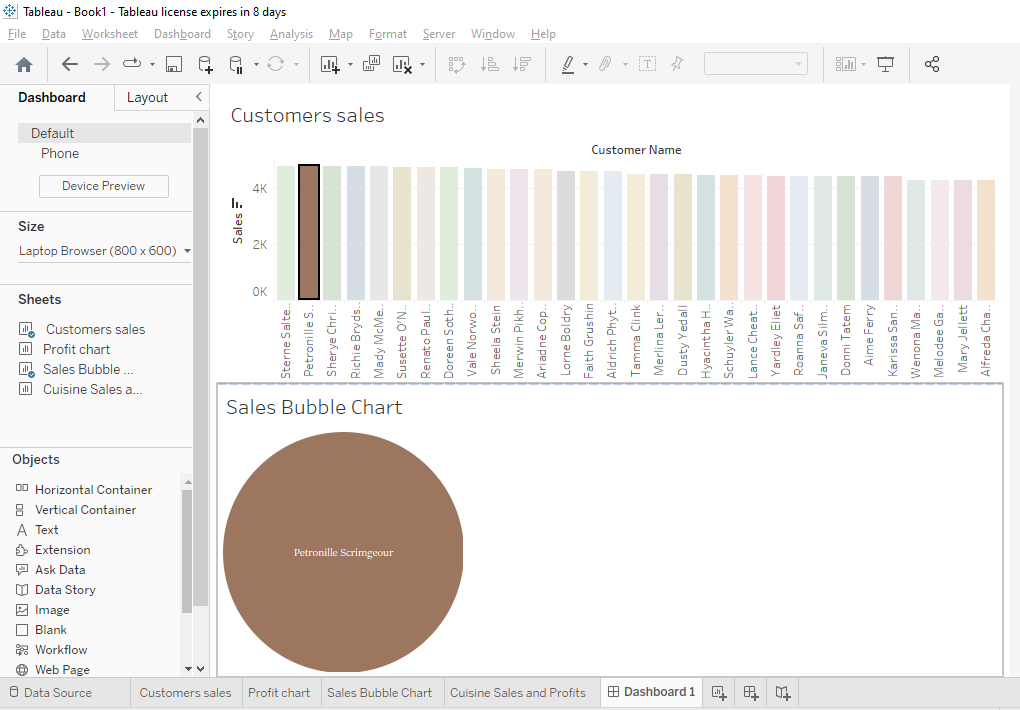

What the dashboard file says about the page in this screenshot:
{"tool":"tableau","page":{"name":"Dashboard 1","canvas":[800,600],"ordinal":0},"visuals":[{"type":"worksheet","title":" Customers sales","mark":"Automatic","rows":["Sales"],"cols":["Customer Name"],"box":[8,8,784,292]},{"type":"worksheet","title":"Sales Bubble Chart","mark":"Circle","box":[8,300,784,292]}]}

Visuals, with their boxes on the page's 800x600 design canvas (x1, y1, x2, y2). These are canvas units, not pixel positions in the 1020x710 screenshot, which may show the page scaled, cropped or inside an application window:
" Customers sales" worksheet: (x1=8, y1=8, x2=792, y2=300)
"Sales Bubble Chart" worksheet (Circle marks): (x1=8, y1=300, x2=792, y2=592)
